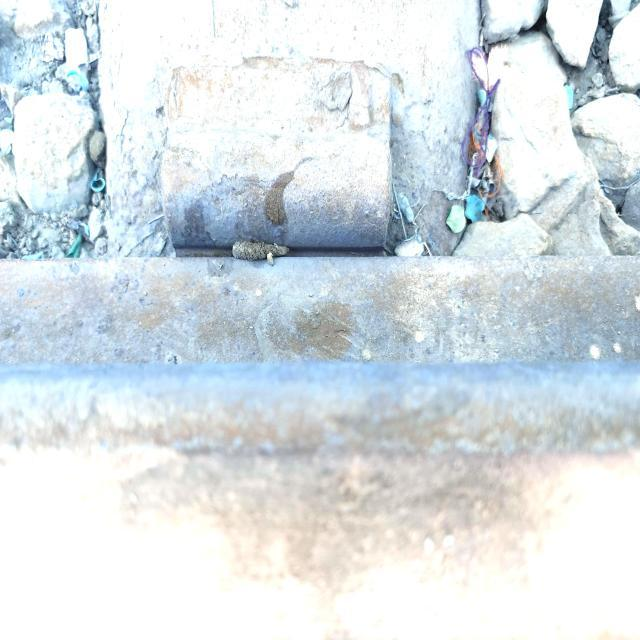Missing Fastener: (122, 40, 452, 296)
